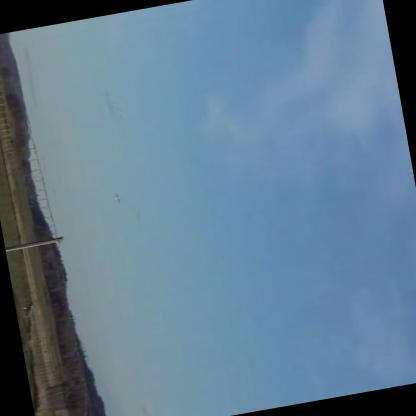plane: (107, 186, 126, 206)
